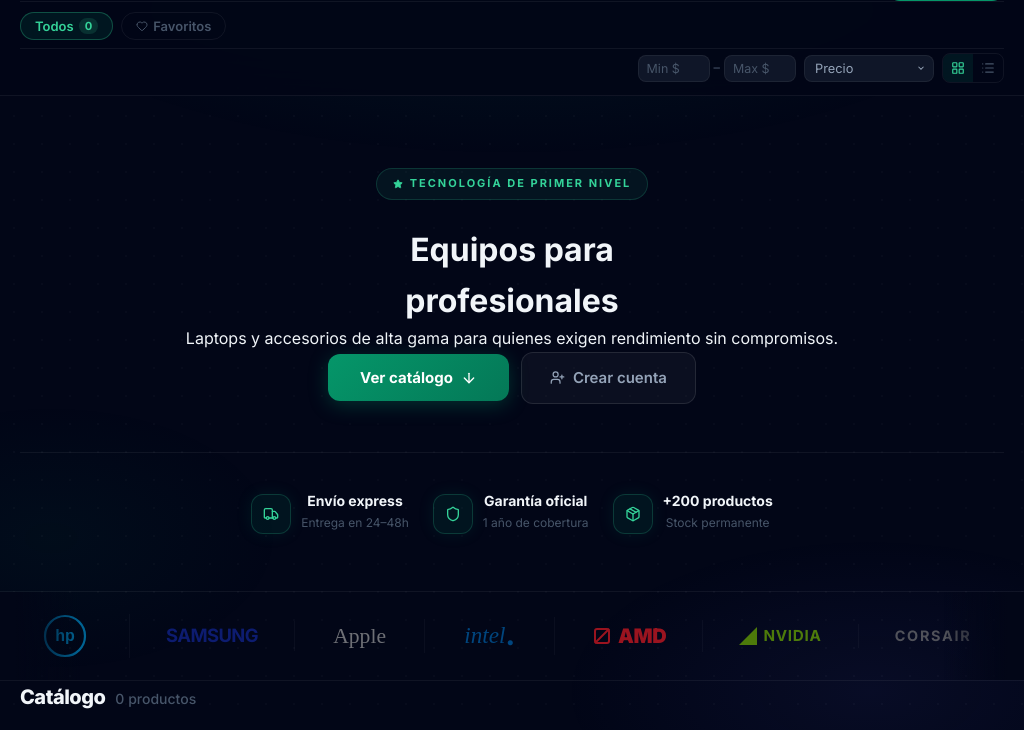
Scenario: App — filtros y UI avanzada › botón Favoritos filtra y muestra "Sin favoritos aún"
Click the button "Favoritos": (174, 26) [121,12,226,40]
(page scrolled)
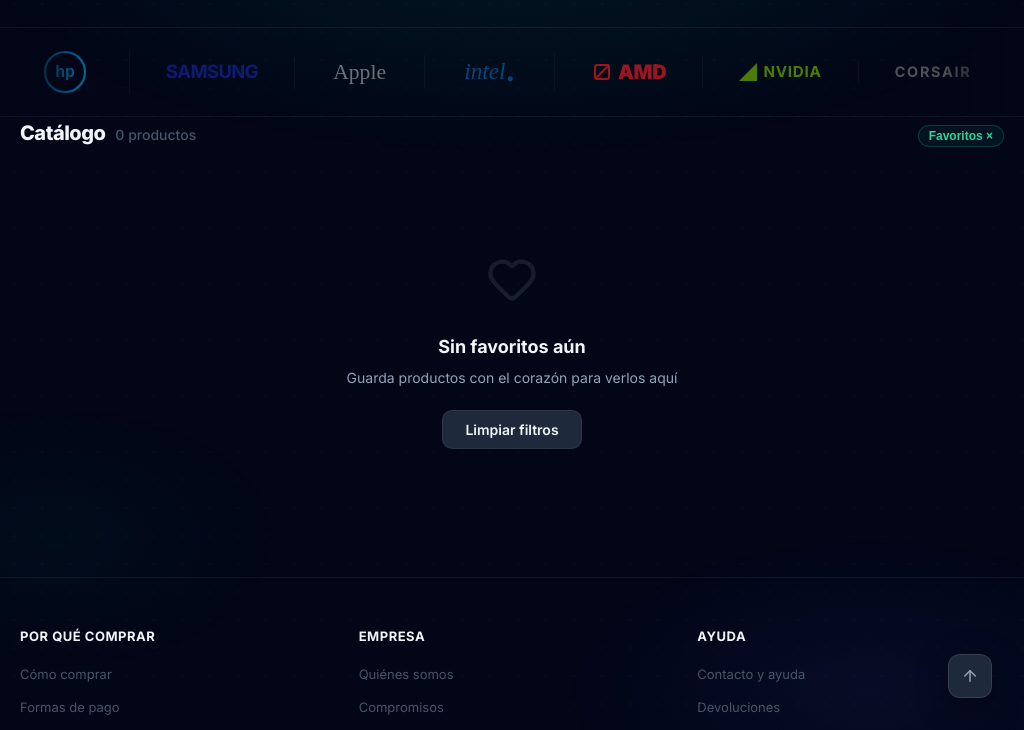
Result: the heading "Sin favoritos aún" is shown at [438,336,586,356]
